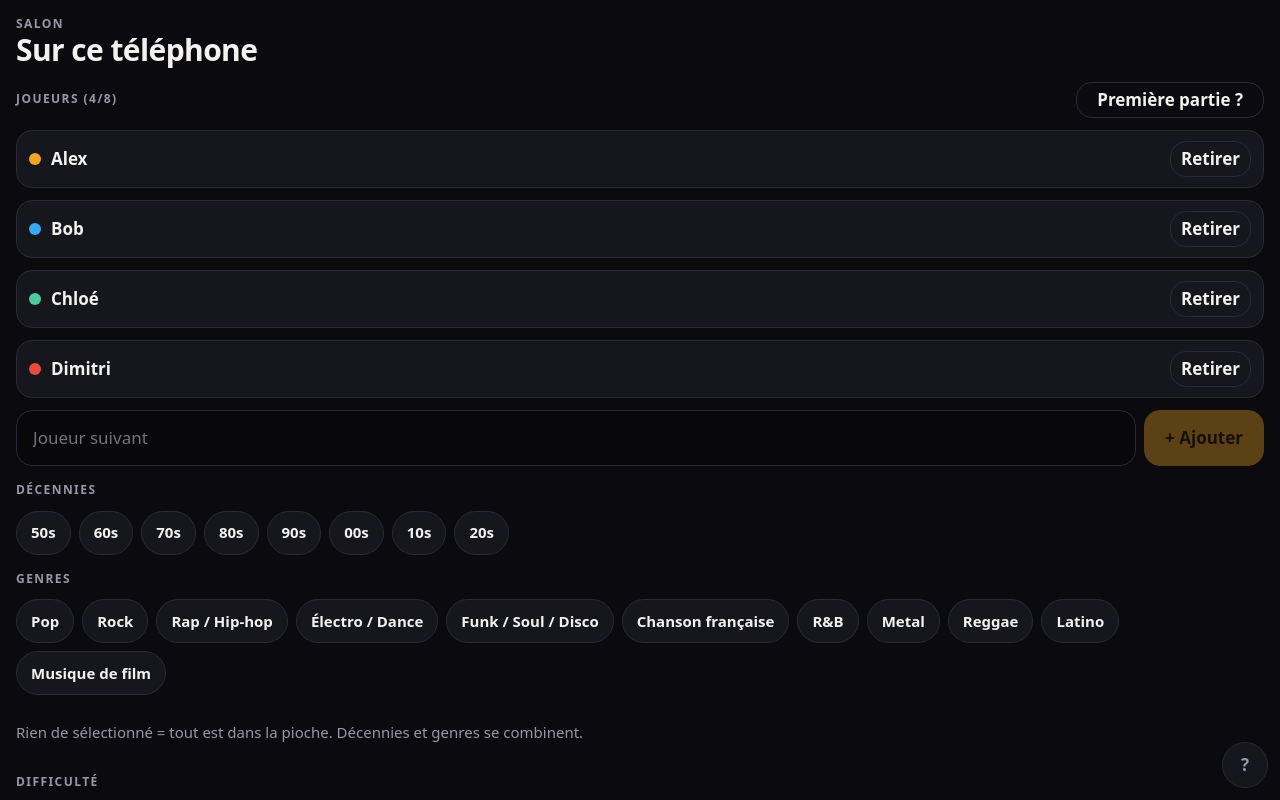
Test: a game, played through the UI › offers the rules from inside the game without leaving it
Expected: the text "Alex" is shown, [51,147,88,170]
Step 1. Click the button named "Les règles" → (1245, 765), box [1222,742,1268,788]
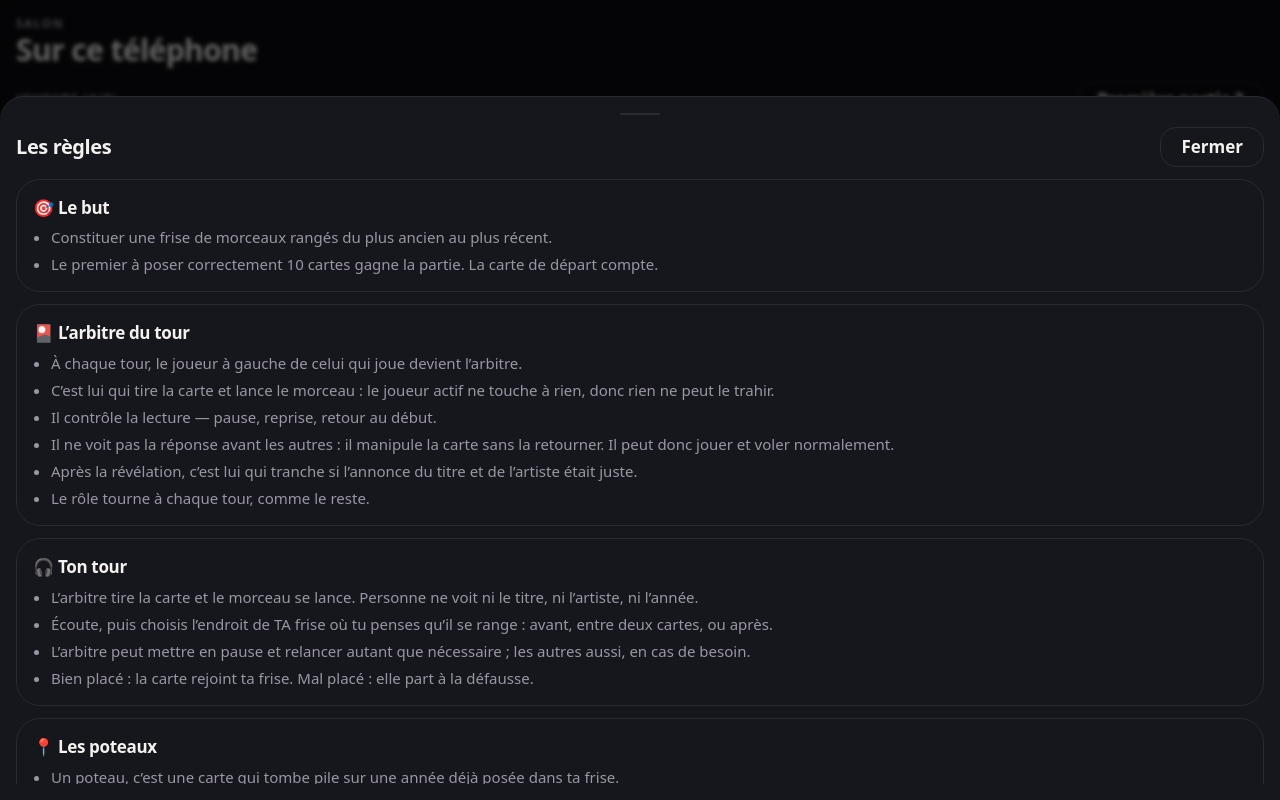
Expected: the heading "🎴 L’arbitre du tour" is shown, [33,321,190,344]
Step 2. Click the button "Fermer" → (1212, 146), box [1160,126,1264,166]
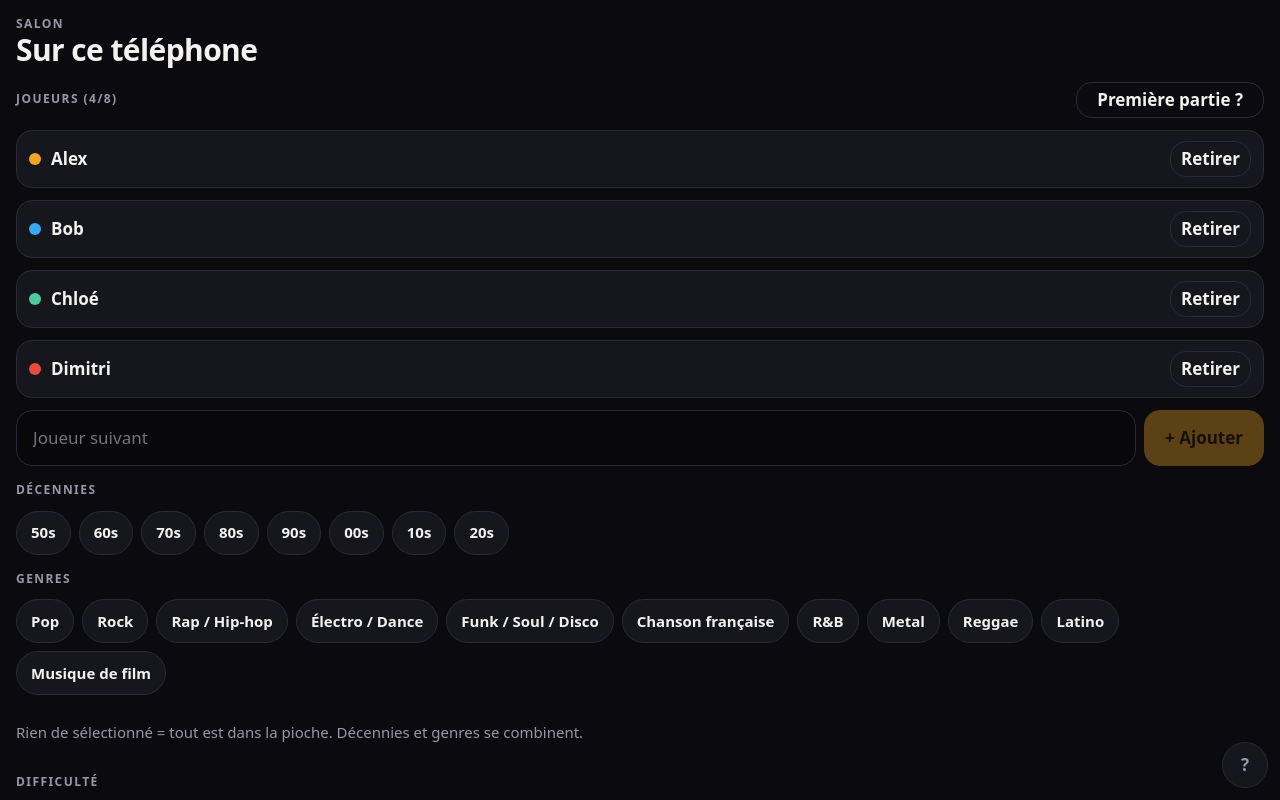
Expected: the text "Alex" is shown, [51,147,88,170]
Expected: the dialog is gone
